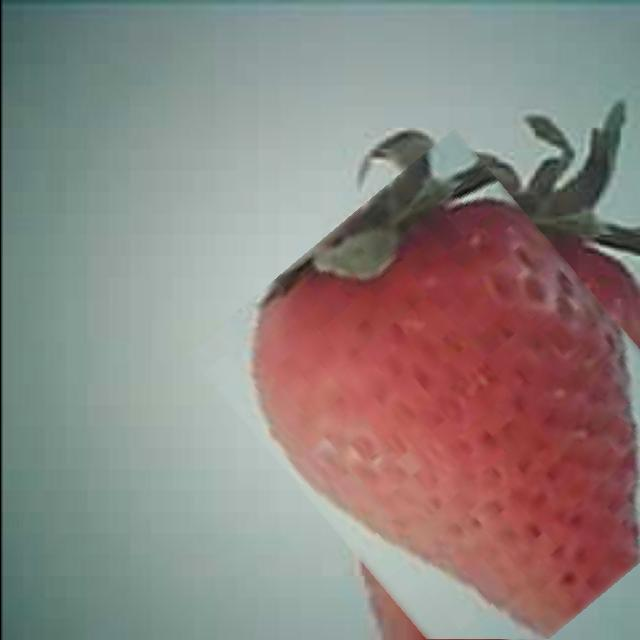strawberry: (238, 158, 640, 640)
